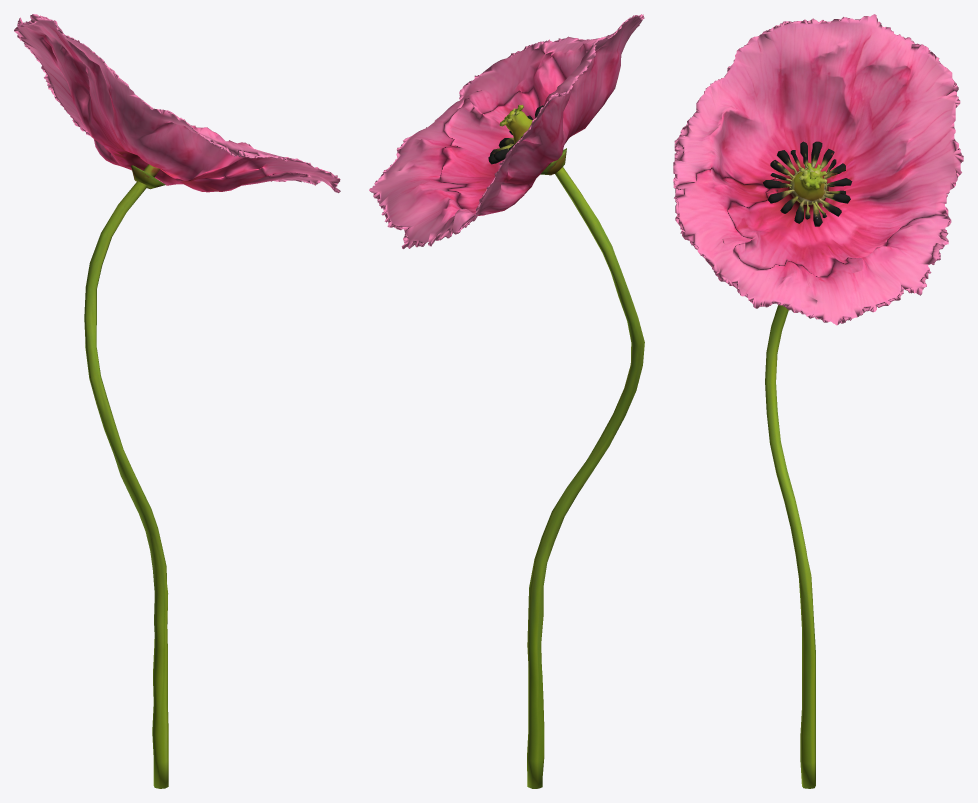
Rendered from flower-00.glb.
3 views of the same model, side by side, from view 1: azimuth 30°, elevation 25°; view 2: azimuth 150°, elevation 25°; view 3: azimuth 270°, elevation 25° (orthographic). The views are drawn at different scales.
Parts seen in each view (by area): view 1: tripo_node_d03865e3-e72e-4048-ab24-e21b840e9350; view 2: tripo_node_d03865e3-e72e-4048-ab24-e21b840e9350; view 3: tripo_node_d03865e3-e72e-4048-ab24-e21b840e9350.
Boxes of the visible parts, x1,y1,x2,y2 form: tripo_node_d03865e3-e72e-4048-ab24-e21b840e9350: (14, 14, 340, 788); tripo_node_d03865e3-e72e-4048-ab24-e21b840e9350: (369, 14, 644, 788); tripo_node_d03865e3-e72e-4048-ab24-e21b840e9350: (673, 14, 963, 788).
Bounding box in the file's own units: 0.3355 × 0.998 × 0.3605.
Materials: 1 (1 with a texture image).
